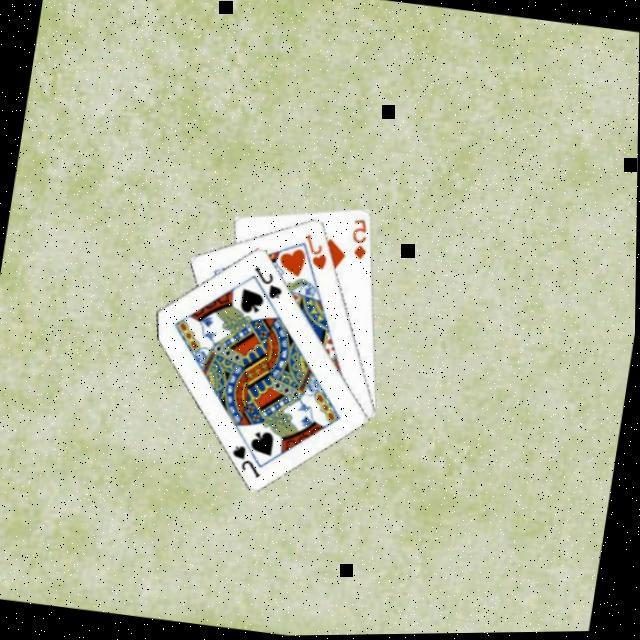5D: (347, 217, 376, 265)
JH: (299, 234, 334, 276)
JS: (248, 265, 290, 306), (227, 443, 269, 484)
